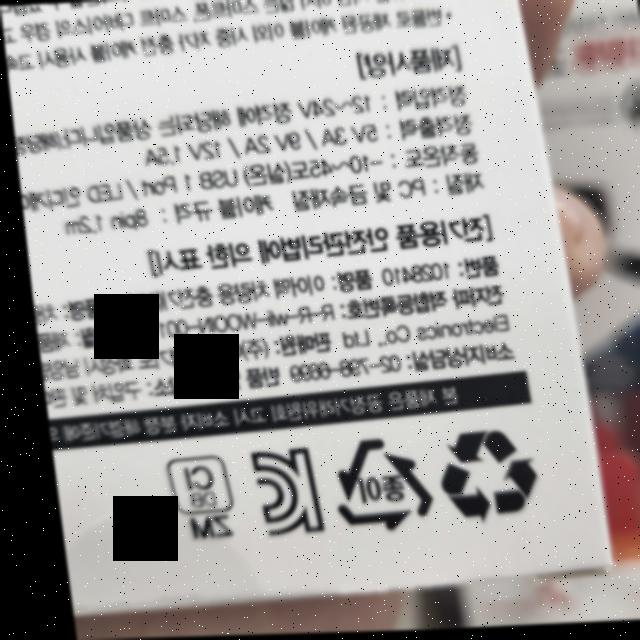Paper: (316, 434, 426, 537)
